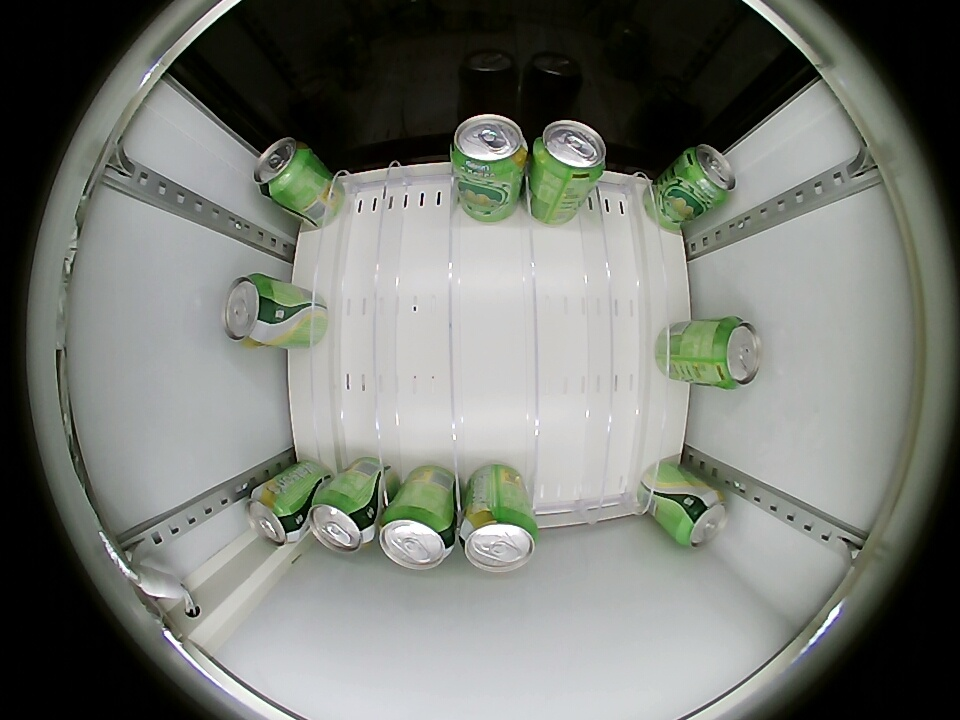quchenshixiangcao: (459, 508, 538, 572), (379, 505, 456, 570), (451, 114, 528, 179), (532, 121, 607, 182), (705, 316, 762, 390), (222, 273, 279, 347), (309, 491, 375, 553), (254, 137, 312, 201), (680, 144, 737, 206), (246, 486, 303, 546), (674, 485, 729, 547)
